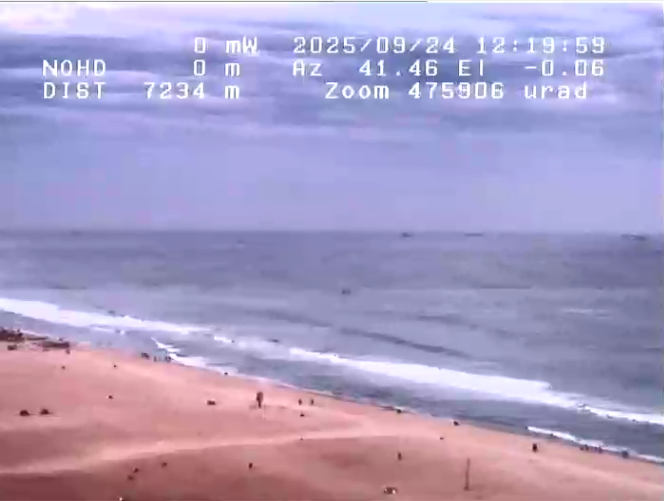TANKER: (611, 224, 650, 247)
